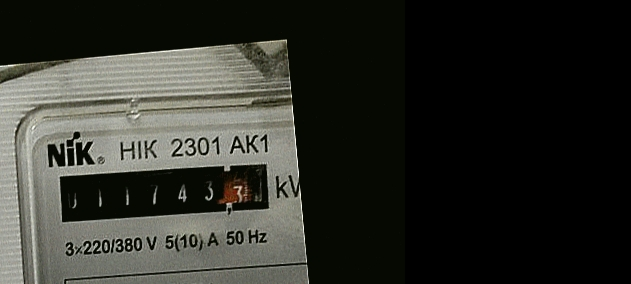0: (62, 182, 79, 211)
1: (89, 180, 106, 209), (117, 179, 133, 208)
3: (198, 175, 215, 203), (228, 182, 245, 204)
4: (172, 178, 189, 205)
7: (144, 179, 161, 205)
screen: (48, 150, 279, 235)
